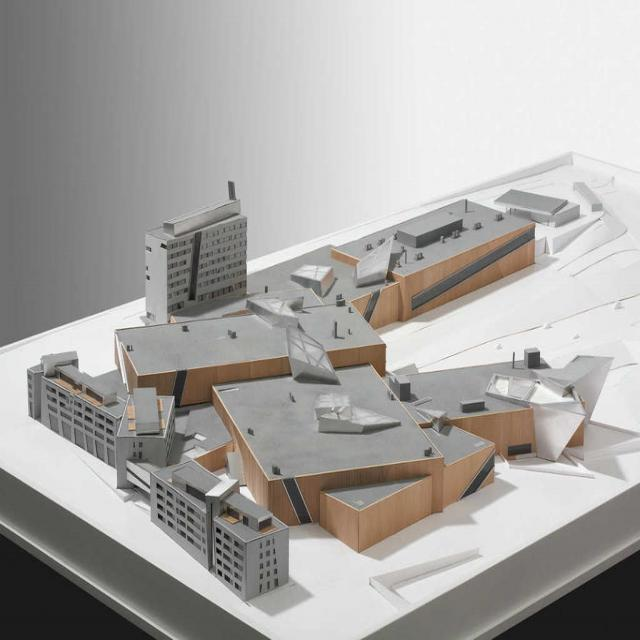desk: (0, 151, 639, 639)
